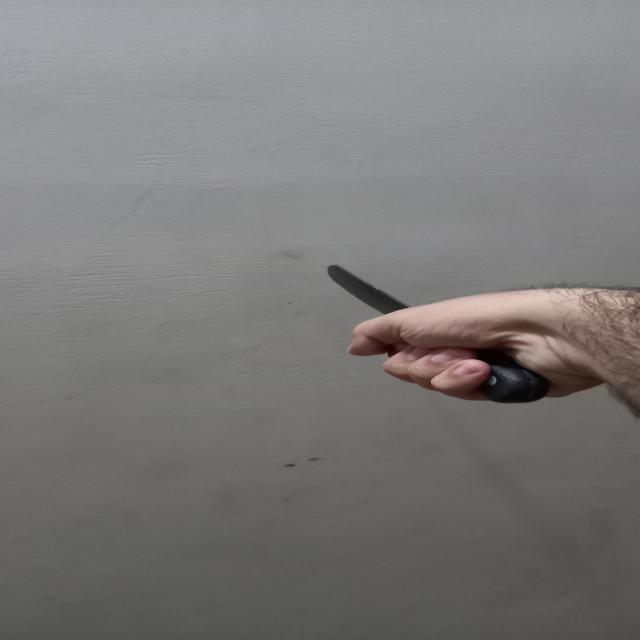Knife: (318, 253, 543, 401)
